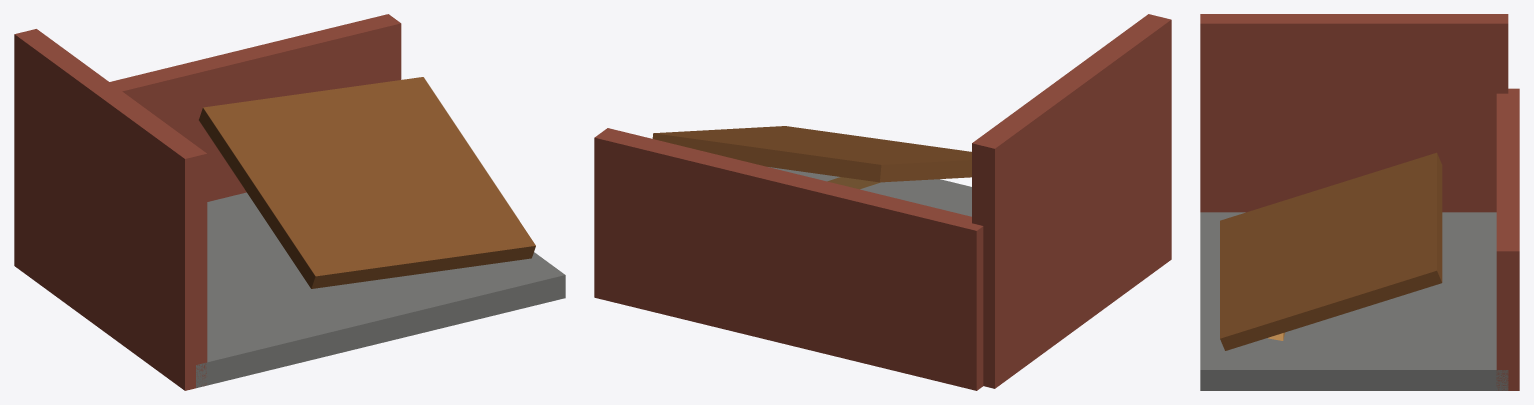
The model's file is collapsed_house.glb.
The picture shows the model from 3 angles, left to right: view 1: azimuth 30°, elevation 25°; view 2: azimuth 150°, elevation 25°; view 3: azimuth 270°, elevation 25°; orthographic projection. The views are drawn at different scales.
Parts seen in each view (by area): view 1: collapsed_house; view 2: collapsed_house; view 3: collapsed_house.
Boxes of the visible parts, x1,y1,x2,y2 form: collapsed_house: [14, 14, 565, 390]; collapsed_house: [594, 14, 1171, 390]; collapsed_house: [1200, 14, 1519, 390].
Size of the model in its own units: 5.15 by 3.08 by 4.15.
